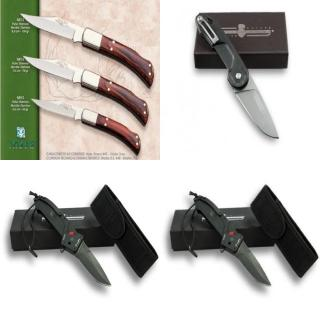knife: (225, 68, 279, 140), (69, 236, 113, 286), (230, 236, 274, 286), (19, 11, 85, 44), (21, 53, 85, 87), (30, 96, 84, 126)
